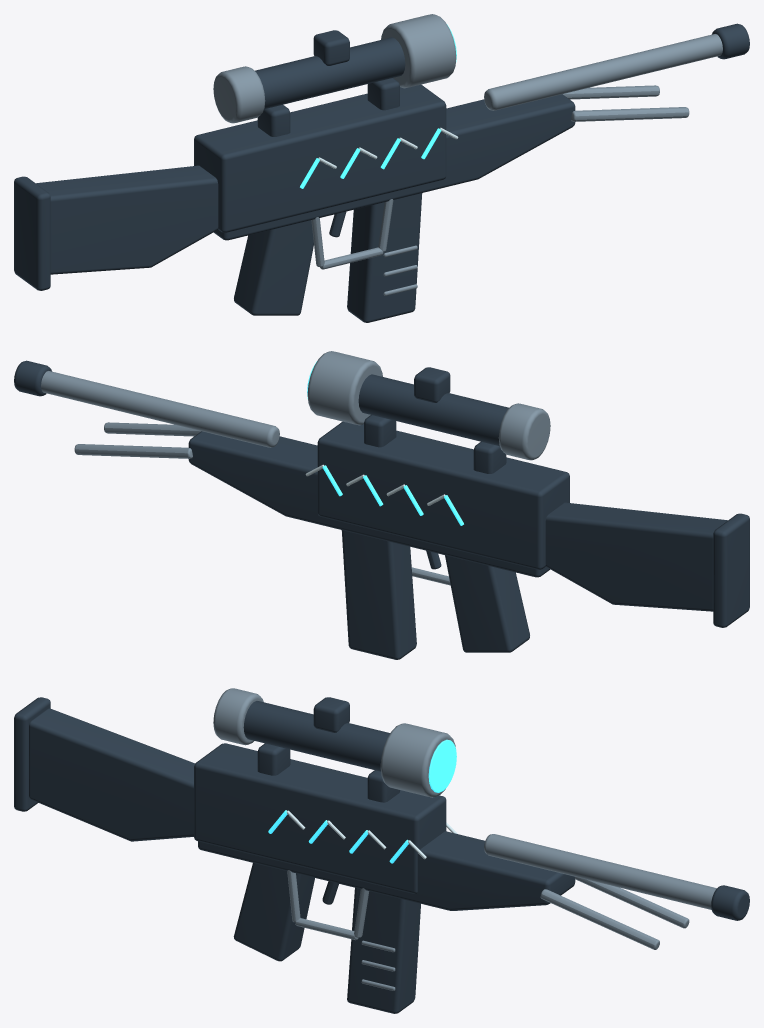
Rendered from ssg08.glb.
The picture shows the model from 3 angles, top to bottom: view 1: azimuth 30°, elevation 25°; view 2: azimuth 150°, elevation 25°; view 3: azimuth 330°, elevation 25°; orthographic projection.
Parts seen in each view (by area): view 1: Receiver.003, Shoulder stock.004, Precision chassis, Magazine.004, Pistol grip.005, Barrel.005, Scope tube, Butt pad.004, Objective, Eyepiece, Folded bipod, Elevation turret (+5 smaller); view 2: Receiver.003, Shoulder stock.004, Precision chassis, Magazine.004, Pistol grip.005, Barrel.005, Scope tube, Butt pad.004, Objective, Eyepiece, Folded bipod.001, Elevation turret (+4 smaller); view 3: Receiver.003, Shoulder stock.004, Precision chassis, Magazine.004, Barrel.005, Scope tube, Pistol grip.005, Objective, Butt pad.004, Eyepiece, Folded bipod, Folded bipod.001 (+6 smaller).
Part boxes in pixels (x1=…): Receiver.003: x1=194, y1=84, x2=446, y2=232; Shoulder stock.004: x1=36, y1=165, x2=218, y2=274; Precision chassis: x1=214, y1=94, x2=575, y2=240; Magazine.004: x1=347, y1=193, x2=422, y2=322; Pistol grip.005: x1=234, y1=220, x2=313, y2=315; Barrel.005: x1=484, y1=34, x2=722, y2=110; Scope tube: x1=255, y1=37, x2=405, y2=109; Butt pad.004: x1=14, y1=176, x2=50, y2=290; Objective: x1=381, y1=14, x2=456, y2=88; Eyepiece: x1=213, y1=66, x2=265, y2=123; Folded bipod: x1=571, y1=107, x2=689, y2=121; Elevation turret: x1=313, y1=30, x2=349, y2=65; Receiver.003: x1=317, y1=421, x2=569, y2=569; Shoulder stock.004: x1=545, y1=502, x2=727, y2=611; Precision chassis: x1=188, y1=431, x2=549, y2=577; Magazine.004: x1=341, y1=530, x2=416, y2=659; Pistol grip.005: x1=445, y1=555, x2=529, y2=652; Barrel.005: x1=41, y1=371, x2=279, y2=447; Scope tube: x1=358, y1=374, x2=508, y2=446; Butt pad.004: x1=713, y1=513, x2=749, y2=627; Objective: x1=307, y1=351, x2=382, y2=425; Eyepiece: x1=498, y1=403, x2=550, y2=460; Folded bipod.001: x1=74, y1=444, x2=192, y2=458; Elevation turret: x1=414, y1=367, x2=450, y2=402; Receiver.003: x1=194, y1=743, x2=446, y2=893; Shoulder stock.004: x1=29, y1=708, x2=195, y2=841; Precision chassis: x1=198, y1=831, x2=575, y2=910; Magazine.004: x1=347, y1=887, x2=420, y2=1013; Barrel.005: x1=484, y1=834, x2=716, y2=909; Scope tube: x1=243, y1=701, x2=390, y2=771; Pistol grip.005: x1=233, y1=863, x2=314, y2=961; Objective: x1=380, y1=723, x2=455, y2=797; Butt pad.004: x1=14, y1=697, x2=50, y2=811; Eyepiece: x1=213, y1=688, x2=263, y2=745; Folded bipod: x1=540, y1=889, x2=659, y2=949; Folded bipod.001: x1=575, y1=877, x2=689, y2=928.
Size of the model in its own units: 6.21 by 2.38 by 0.5223.
